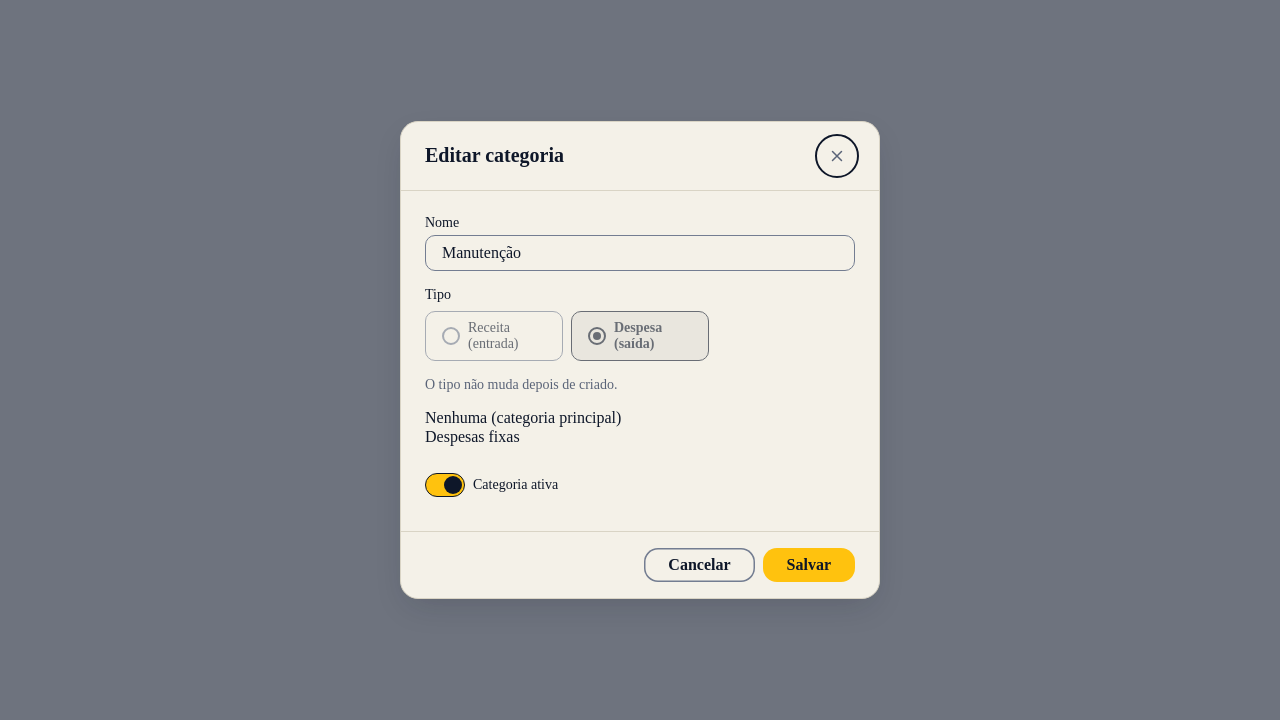
Scenario: CategoriaModal: edição › inativar explica o efeito
The width and height of the screenshot is (1280, 720).
What coordinates should you click on to do the following:
click the switch named "Categoria ativa"
I would click on:
 (445, 485)
Its box is [425,473,465,497].
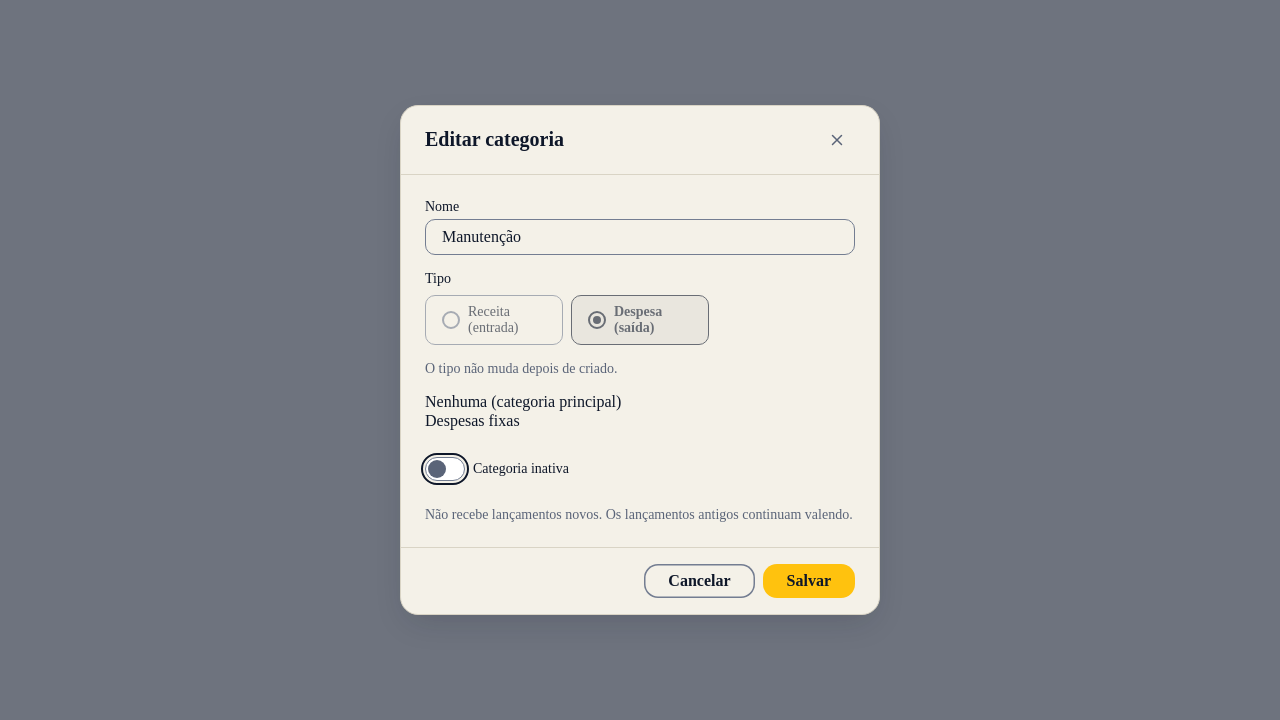
Expected: the text "Não recebe lançamentos novos. Os lançamentos antigos continuam valendo." is shown, [425,507,855,523]
Expected: the switch named "Categoria inativa" is shown, [425,457,465,481]
